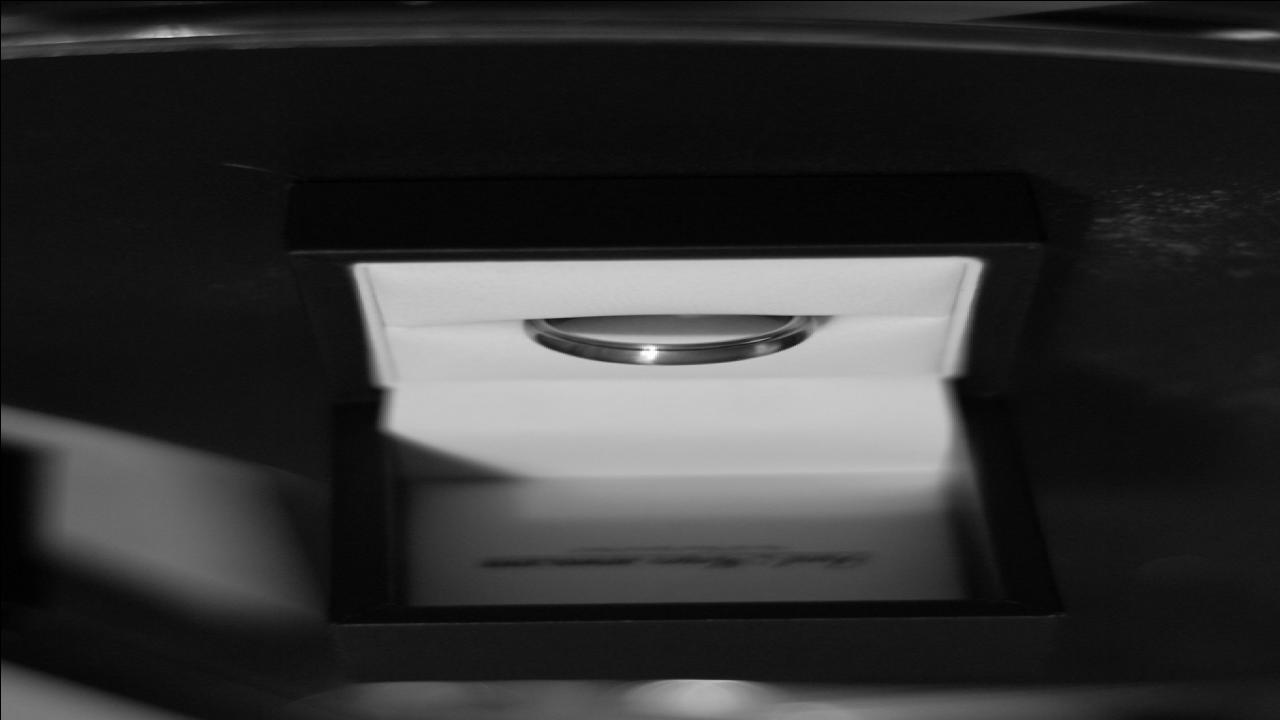ring: (517, 306, 821, 369)
